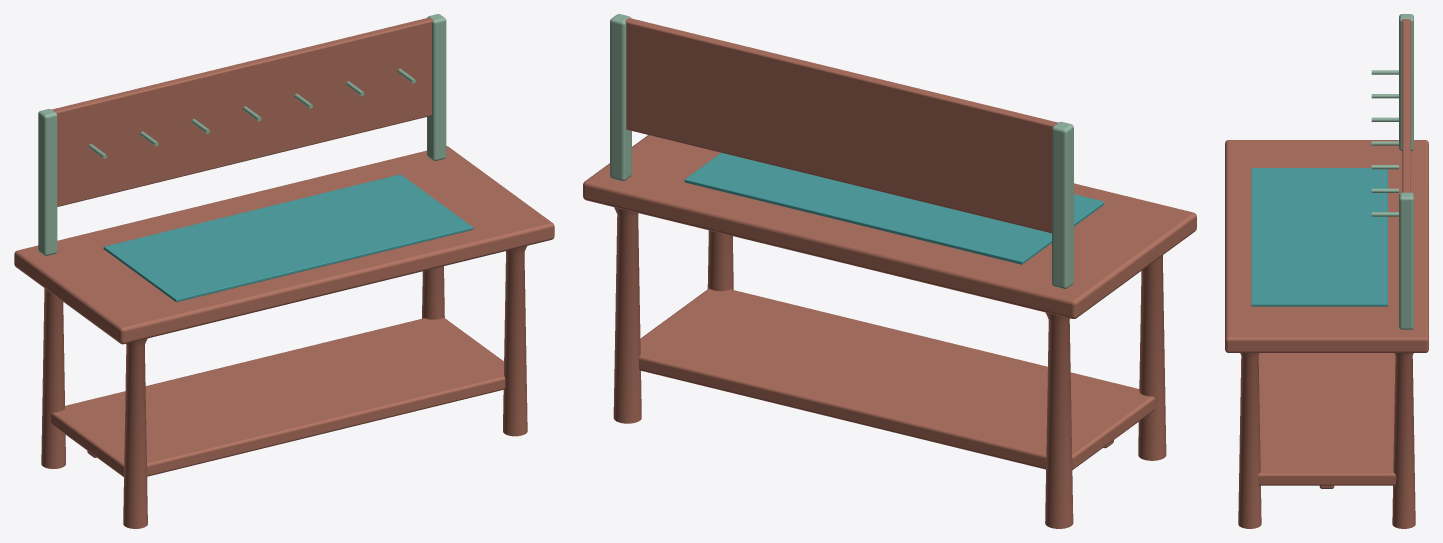
Rendered from enchanted-harp-garden-and-music-sanctuary-string-instr-42a542f0__30407.glb.
3 renders of one model, left to right at view 1: azimuth 30°, elevation 25°; view 2: azimuth 150°, elevation 25°; view 3: azimuth 270°, elevation 25°, orthographic. The views are drawn at different scales.
Parts seen in each view (by area): view 1: string-instrument-repair-bench; view 2: string-instrument-repair-bench; view 3: string-instrument-repair-bench.
Boxes of the visible parts, <box> form: string-instrument-repair-bench: <box>14,14,554,528</box>; string-instrument-repair-bench: <box>583,14,1196,528</box>; string-instrument-repair-bench: <box>1225,14,1428,528</box>.
Size of the model in its own units: 1.9 by 1.47 by 0.82.
